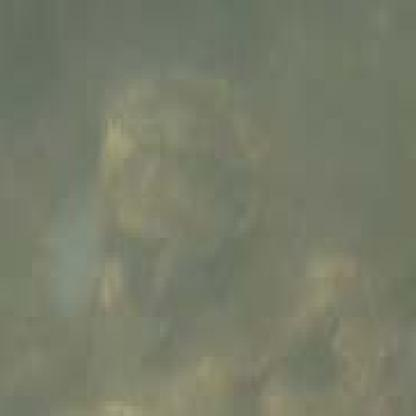Oyster-Open: (103, 71, 268, 254)
